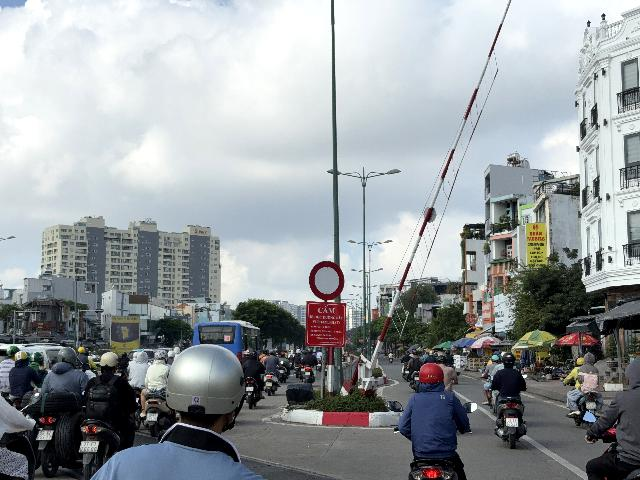duong-cam: (309, 260, 345, 301)
